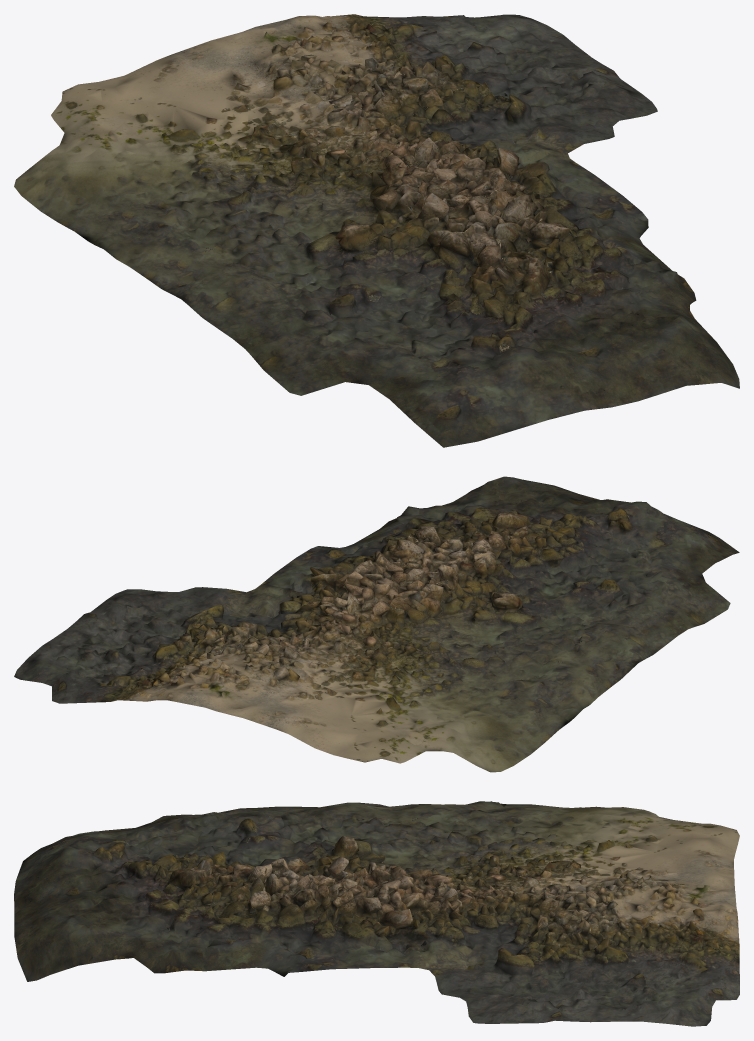
File: coast-rocks-03-2k.glb
The picture shows the model from 3 angles, top to bottom: view 1: azimuth 30°, elevation 25°; view 2: azimuth 150°, elevation 25°; view 3: azimuth 270°, elevation 25°; orthographic projection. The views are drawn at different scales.
Parts seen in each view (by area): view 1: coast_rocks_03; view 2: coast_rocks_03; view 3: coast_rocks_03.
Boxes of the visible parts, x1,y1,x2,y2 form: coast_rocks_03: (14, 14, 739, 447); coast_rocks_03: (14, 476, 739, 772); coast_rocks_03: (14, 801, 739, 1026).
Bounding box in the file's own units: 21.12 × 3.2 × 28.26.
1 material, 1 textured.
